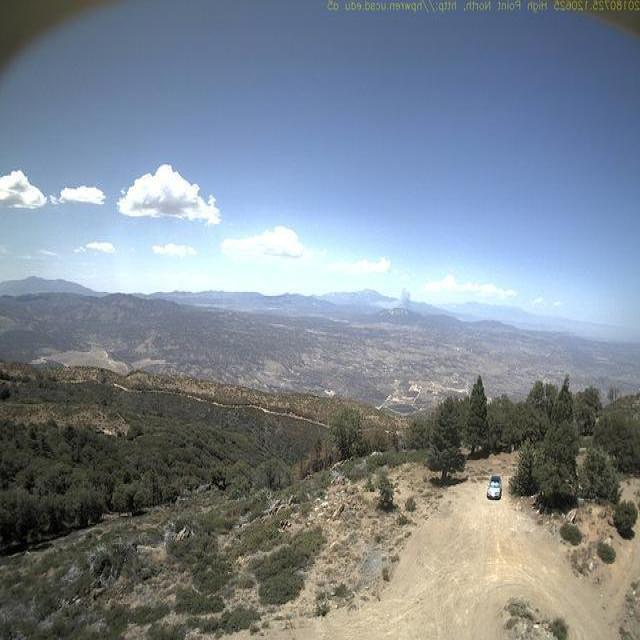Smoke: (369, 279, 419, 321)
